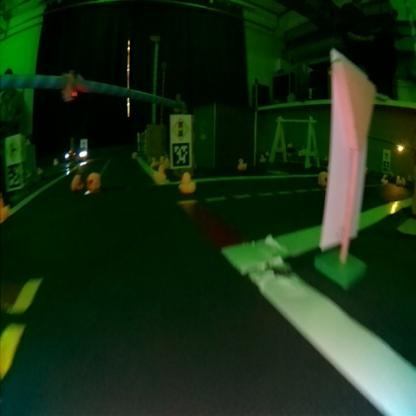Duckie: (180, 172, 196, 192), (71, 174, 84, 192), (88, 172, 100, 190), (155, 166, 167, 182), (318, 170, 328, 184), (237, 158, 247, 170)
QR code: (172, 142, 190, 166), (8, 164, 21, 188)
Signal sign: (174, 116, 190, 139)
Traffic light: (62, 88, 78, 102)
